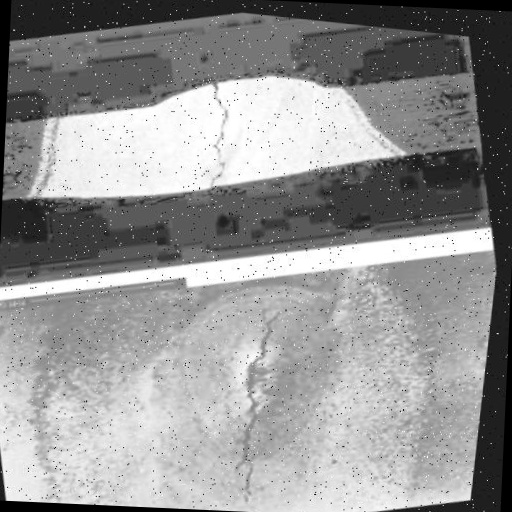crack: (199, 293, 321, 508), (188, 76, 250, 187)
